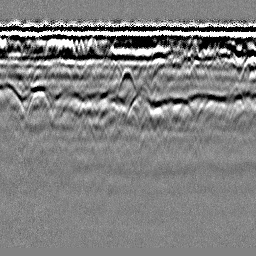cavity: (117, 65, 138, 93)
